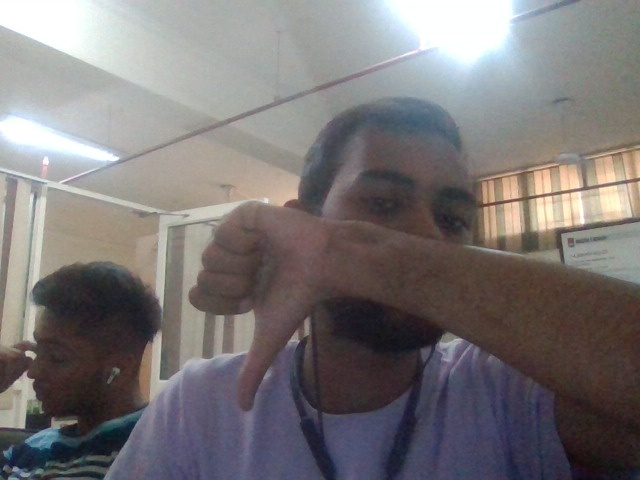No: (185, 200, 334, 412)
